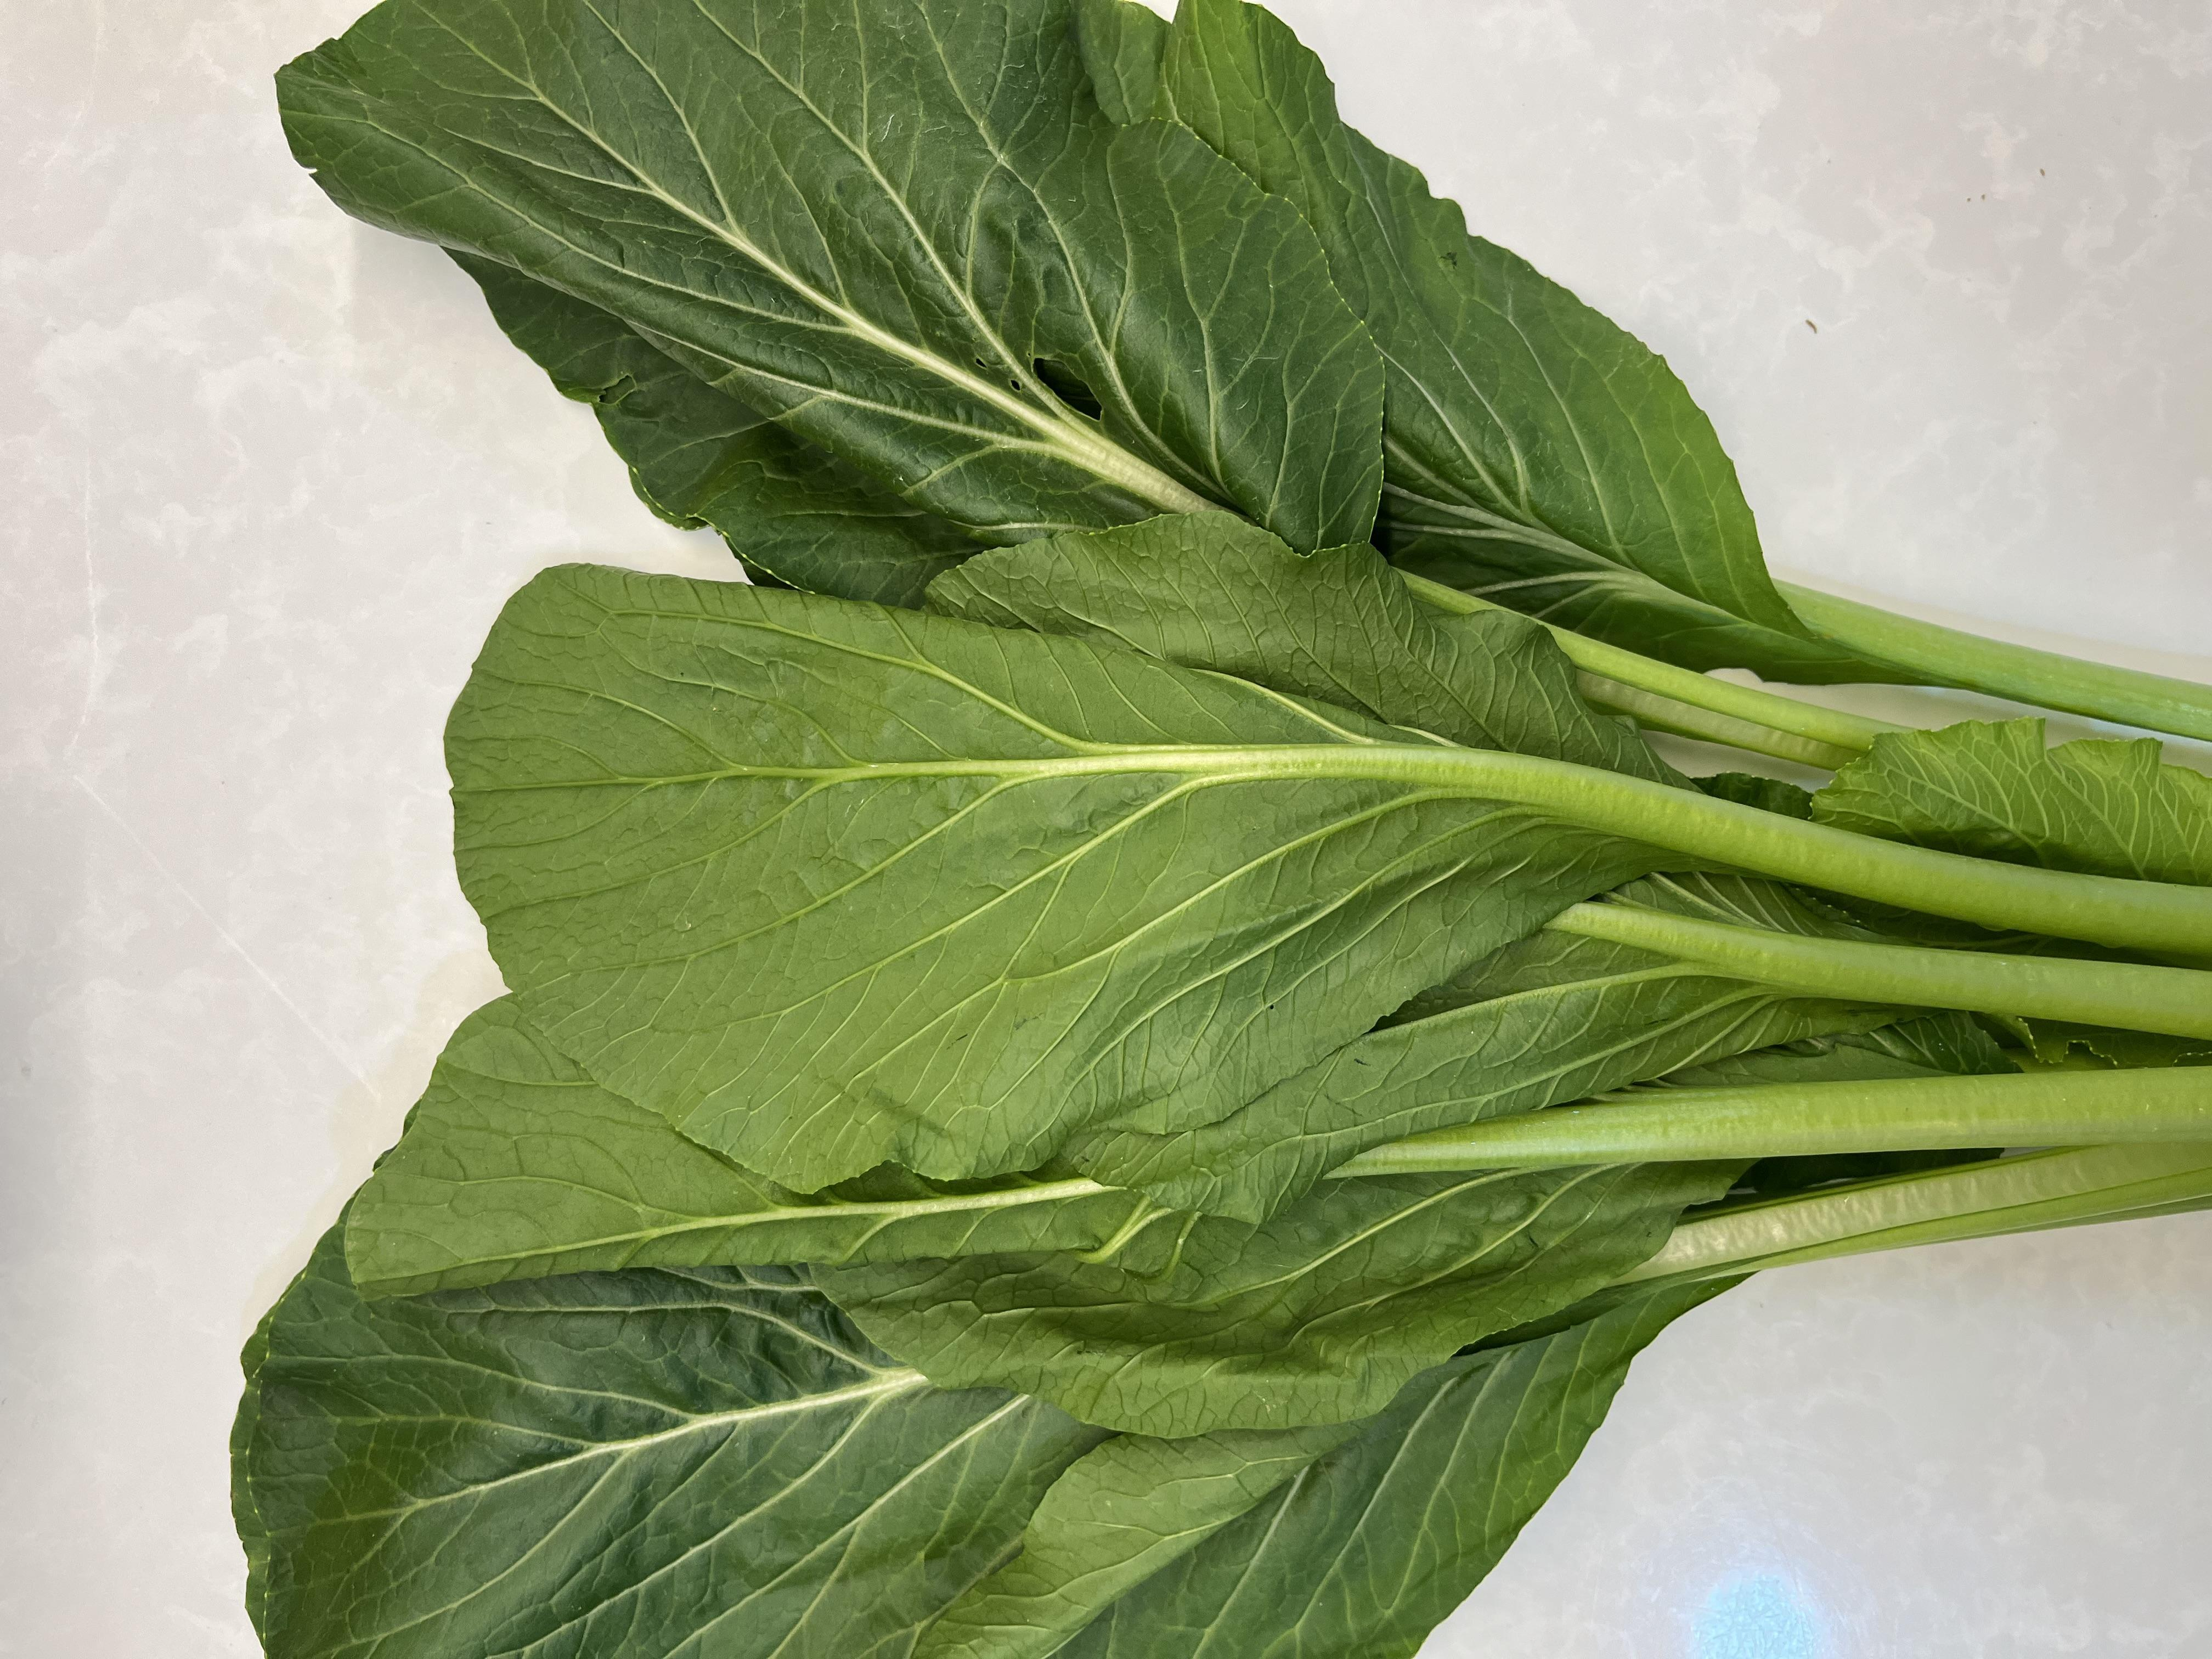Healthy-Pechay: (105, 61, 2156, 1575)
